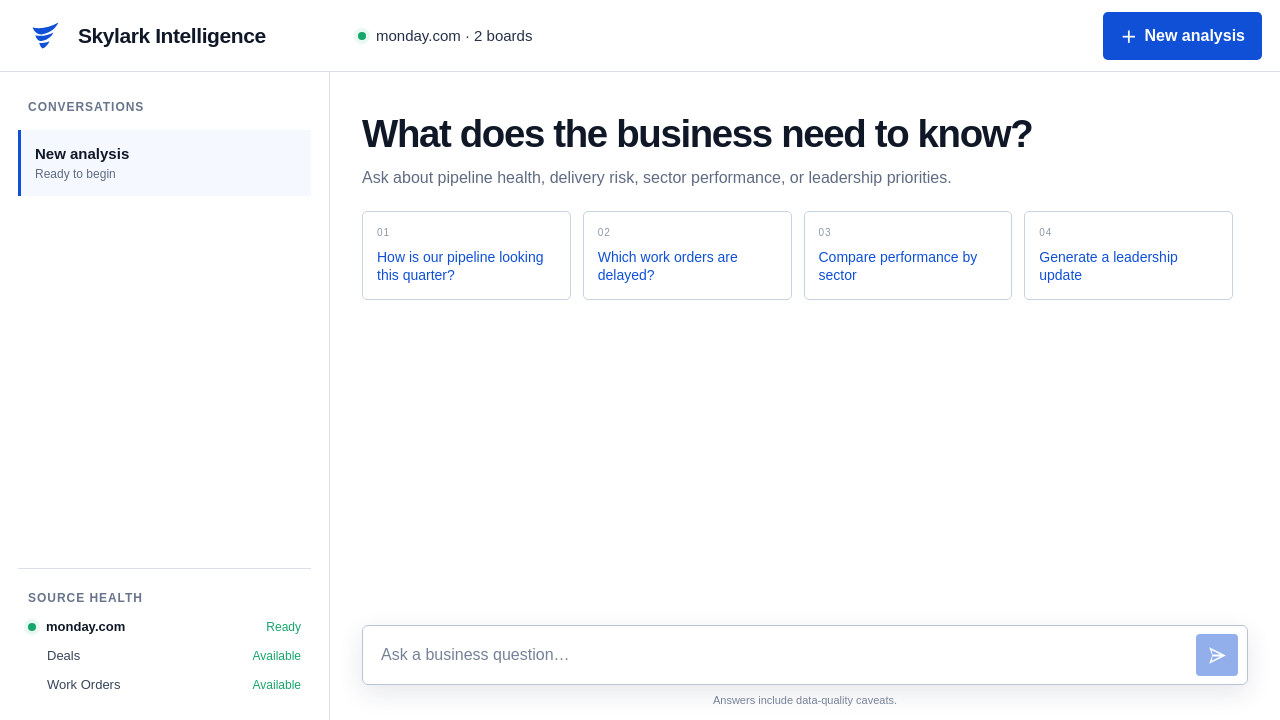
Test: ChatWorkspace › submits typed questions and recovers from a safe error
In the text box labelled "Ask a business question": (782, 655) [381,639,1184,671], type "Which work orders are delayed?"
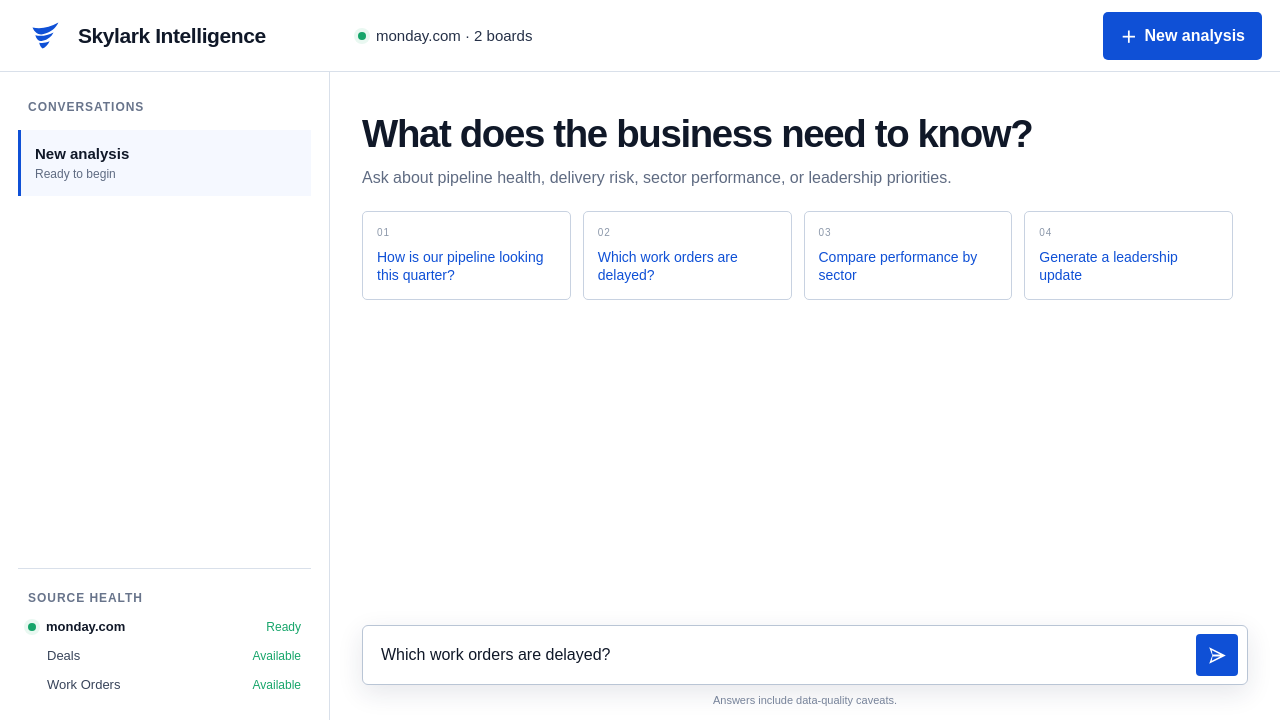
Click the button named "Send question": (1217, 655) [1196,634,1238,676]
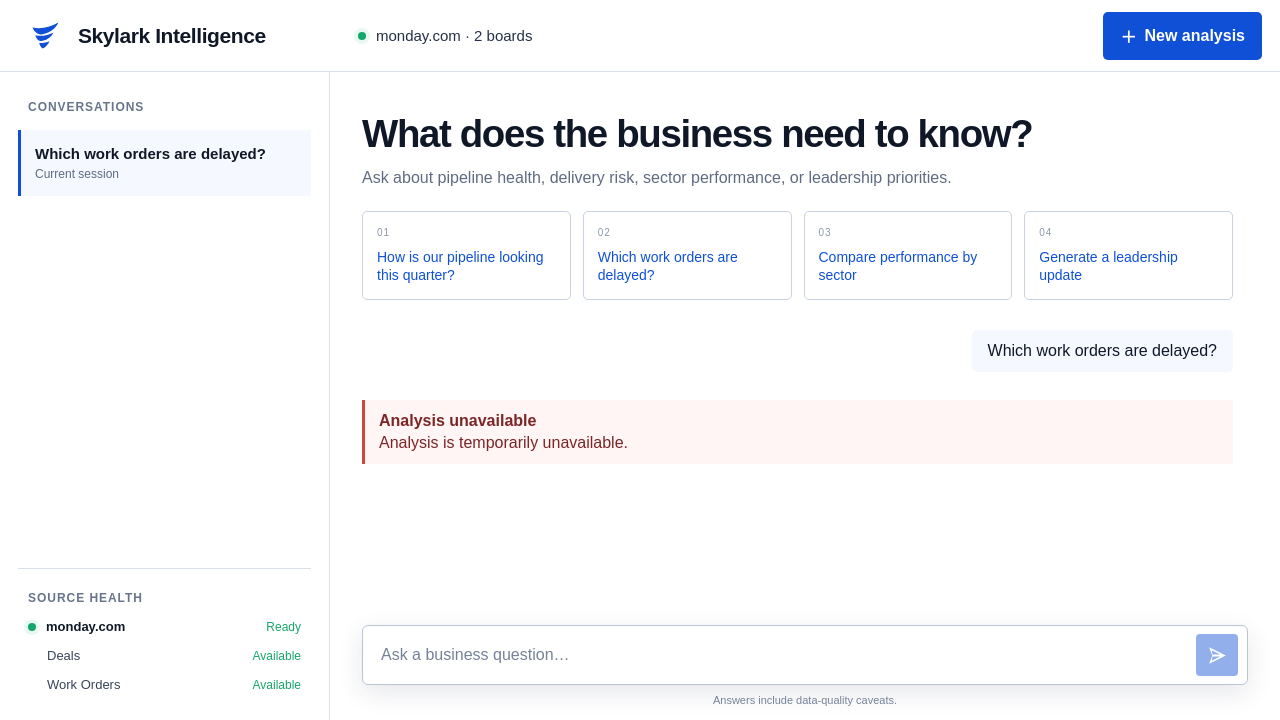
Expected: the text box labelled "Ask a business question" is enabled, [381,639,1184,671]
Expected: the message shows "Analysis is temporarily unavailable.", [379,434,628,451]
